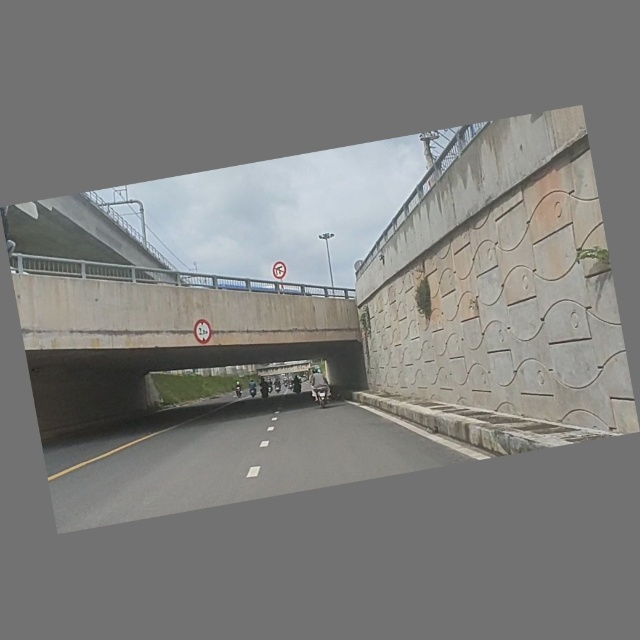P.117*: (192, 317, 214, 346)
P.124d: (271, 260, 288, 281)
